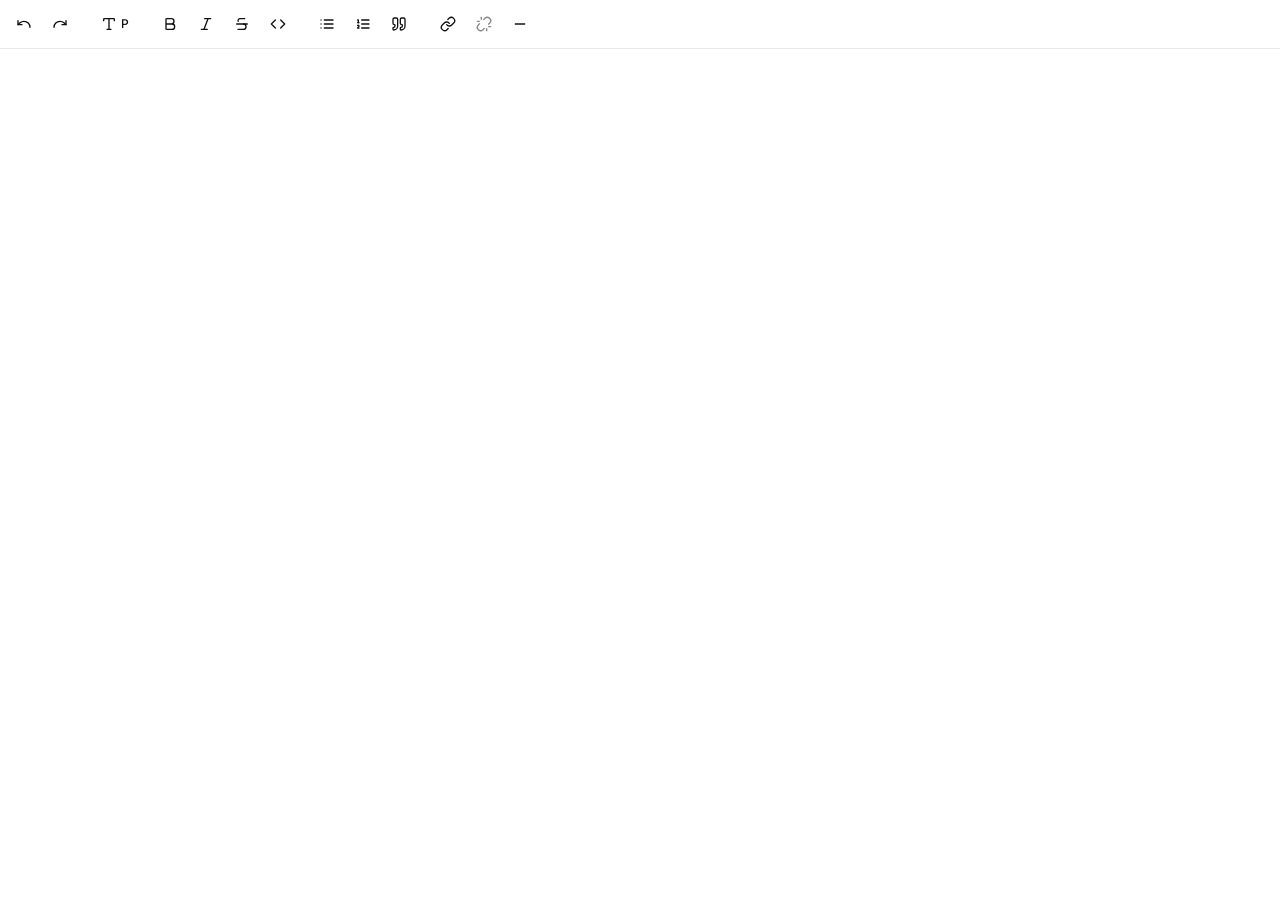
Test: EditorToolbar › should handle edge cases with empty link URL
This screenshot has width=1280, height=900.
Click the button titled "Add Link": (448, 24) [432, 8, 464, 40]
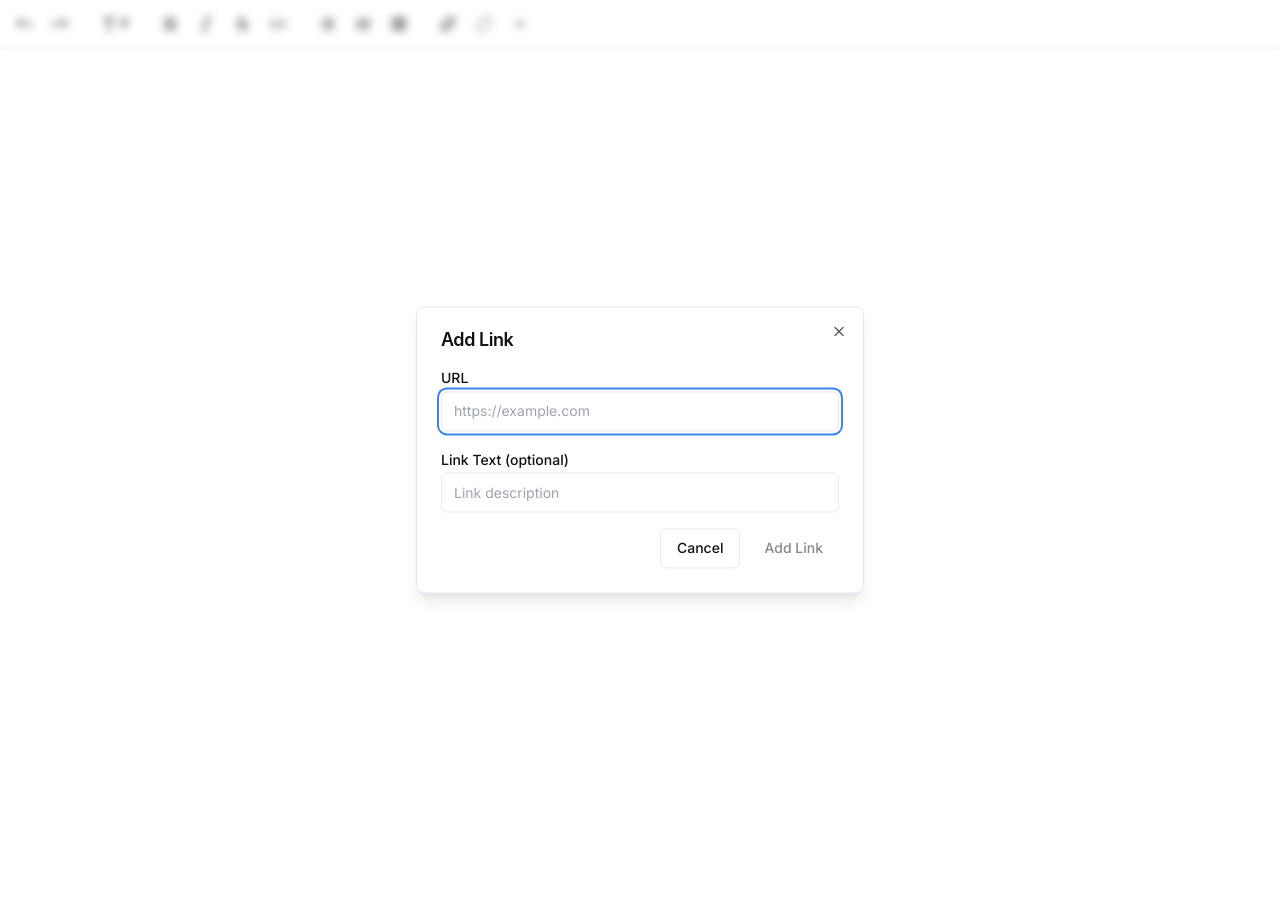
Result: the button "Add Link" is disabled at [748, 529, 839, 569]
